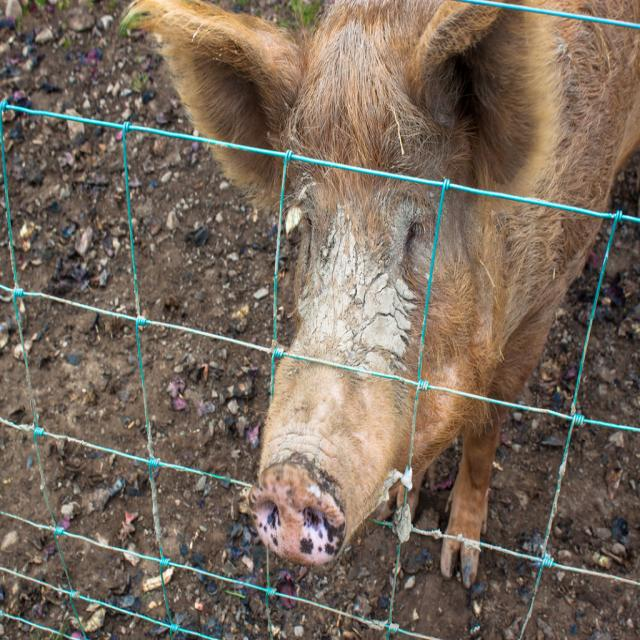Pig: (120, 0, 640, 590)
